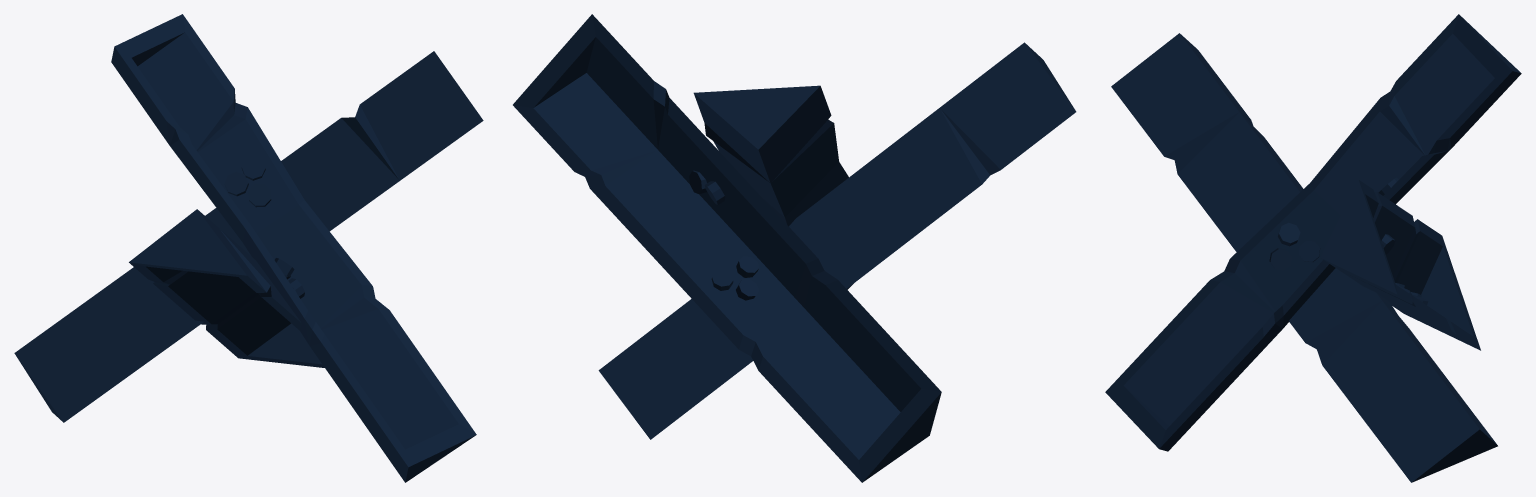
The model's file is Obstacle_Czech_Hedgehog_01.fbx.
The picture shows the model from 3 angles, left to right: view 1: azimuth 30°, elevation 25°; view 2: azimuth 150°, elevation 25°; view 3: azimuth 270°, elevation 25°; orthographic projection. The views are drawn at different scales.
Visible parts, largest first — view 1: Obstacle_Czech_Hedgehog_01; view 2: Obstacle_Czech_Hedgehog_01; view 3: Obstacle_Czech_Hedgehog_01.
Part boxes in pixels (<box>): Obstacle_Czech_Hedgehog_01: <box>14,14,483,482</box>; Obstacle_Czech_Hedgehog_01: <box>513,14,1076,482</box>; Obstacle_Czech_Hedgehog_01: <box>1105,14,1521,482</box>.
Size of the model in its own units: 79.5 by 62.77 by 64.69.
